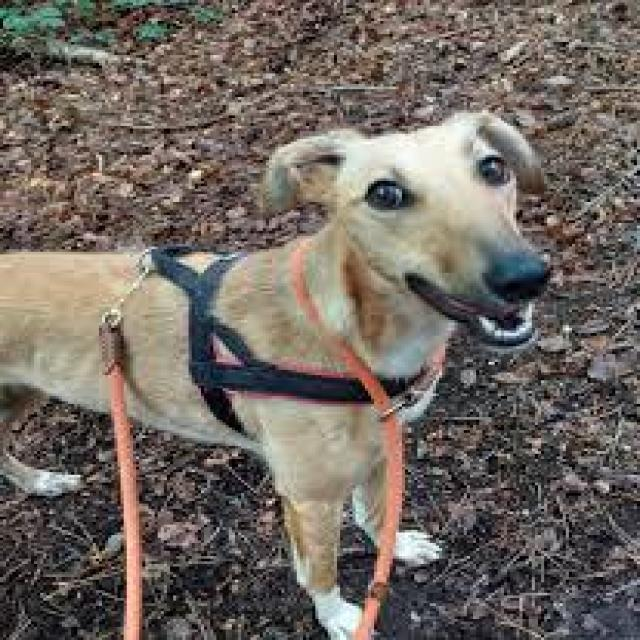dog: (60, 85, 609, 445)
